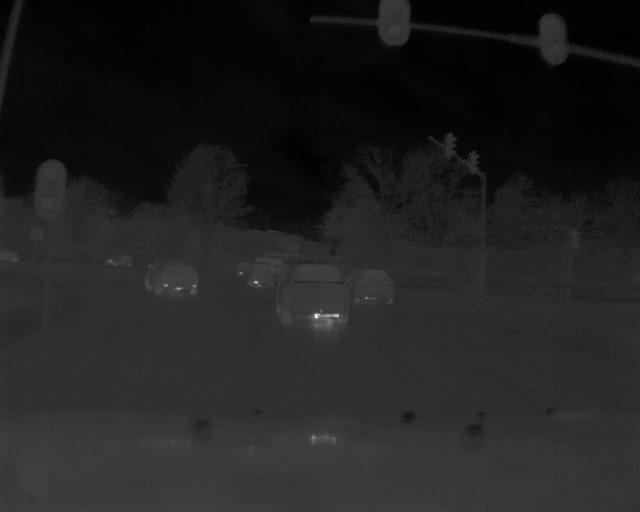car: (272, 260, 349, 329), (138, 259, 202, 299), (351, 265, 398, 307)
